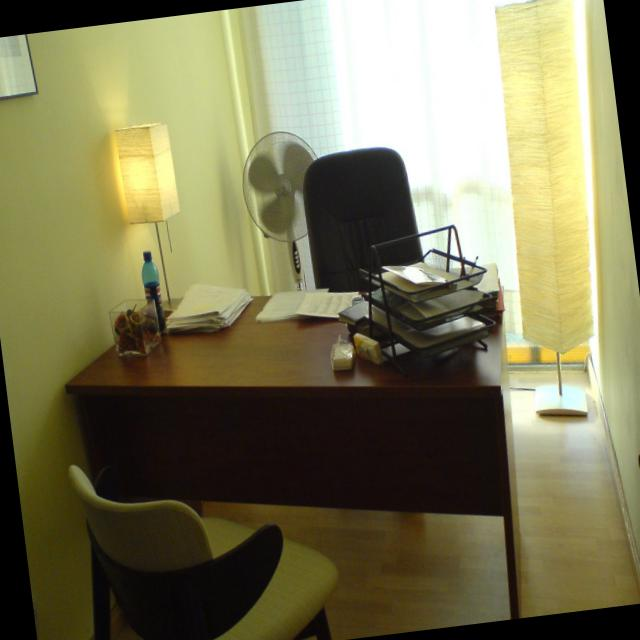2001: (255, 0, 585, 343)
bottle crop: (142, 252, 167, 328)
box contants: (109, 299, 162, 358)
chair -occluded-: (66, 463, 340, 640), (299, 149, 424, 292)
desk calendar: (64, 290, 520, 617)
fan lamp: (243, 131, 316, 285)
floor -X: (201, 368, 640, 639)
folders: (479, 262, 506, 312)
lamp crop: (114, 121, 181, 312)
painting crop: (0, 35, 39, 99)
paper napkins: (339, 224, 496, 368)
papers: (169, 283, 251, 330), (259, 288, 360, 320)
shade: (494, 0, 594, 413)
tissue box: (354, 329, 383, 364), (333, 342, 354, 371)
wall clock: (0, 9, 269, 640), (586, 0, 640, 556)
